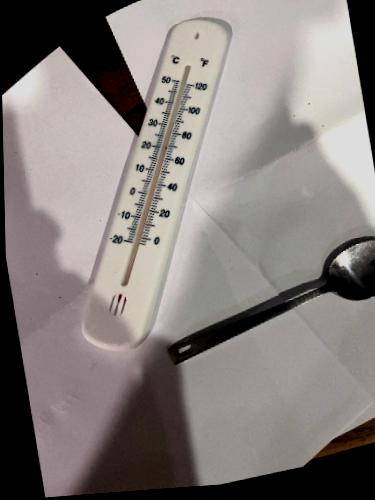thermo: (73, 4, 248, 354)
